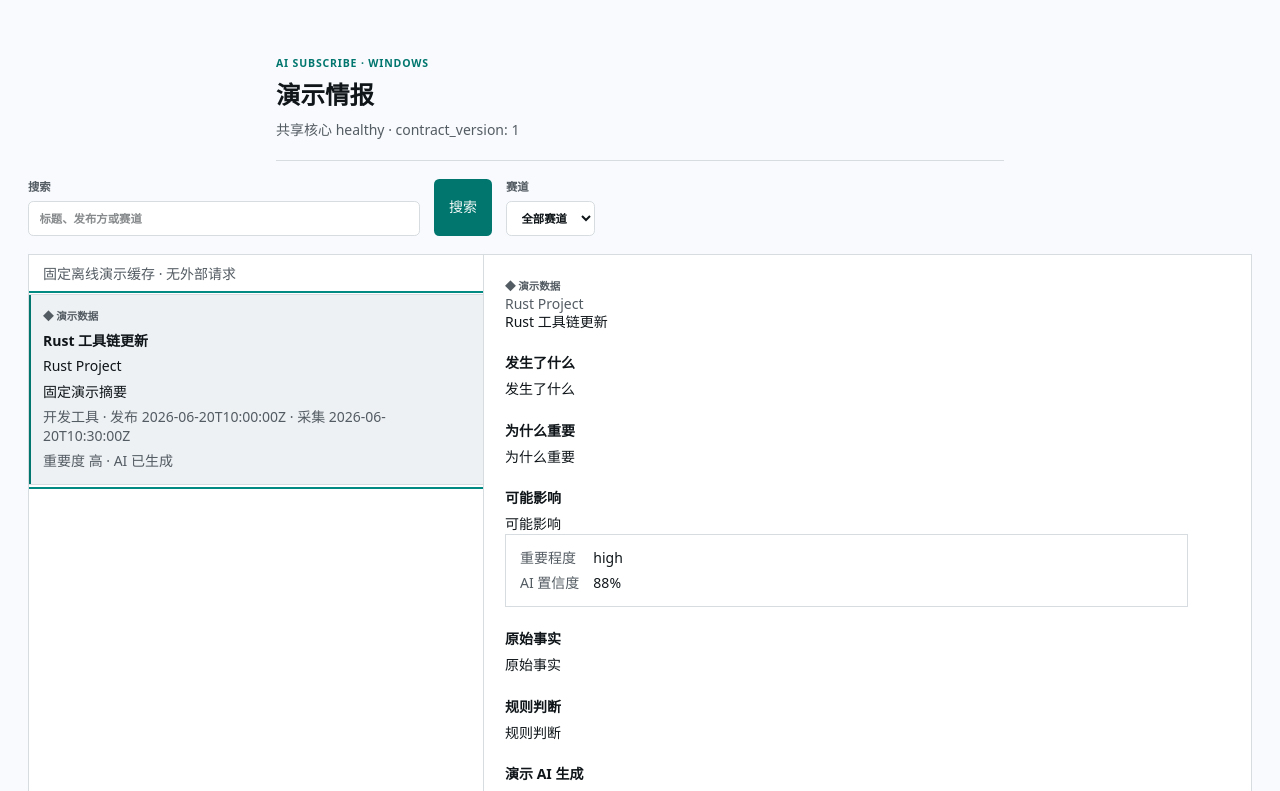
Test: Windows demo intelligence shell › moves selection to a valid item without stealing focus from the active search control
The width and height of the screenshot is (1280, 791).
Type "替换" into the field labelled "搜索" at {"x": 224, "y": 219}, box [28, 201, 420, 236]
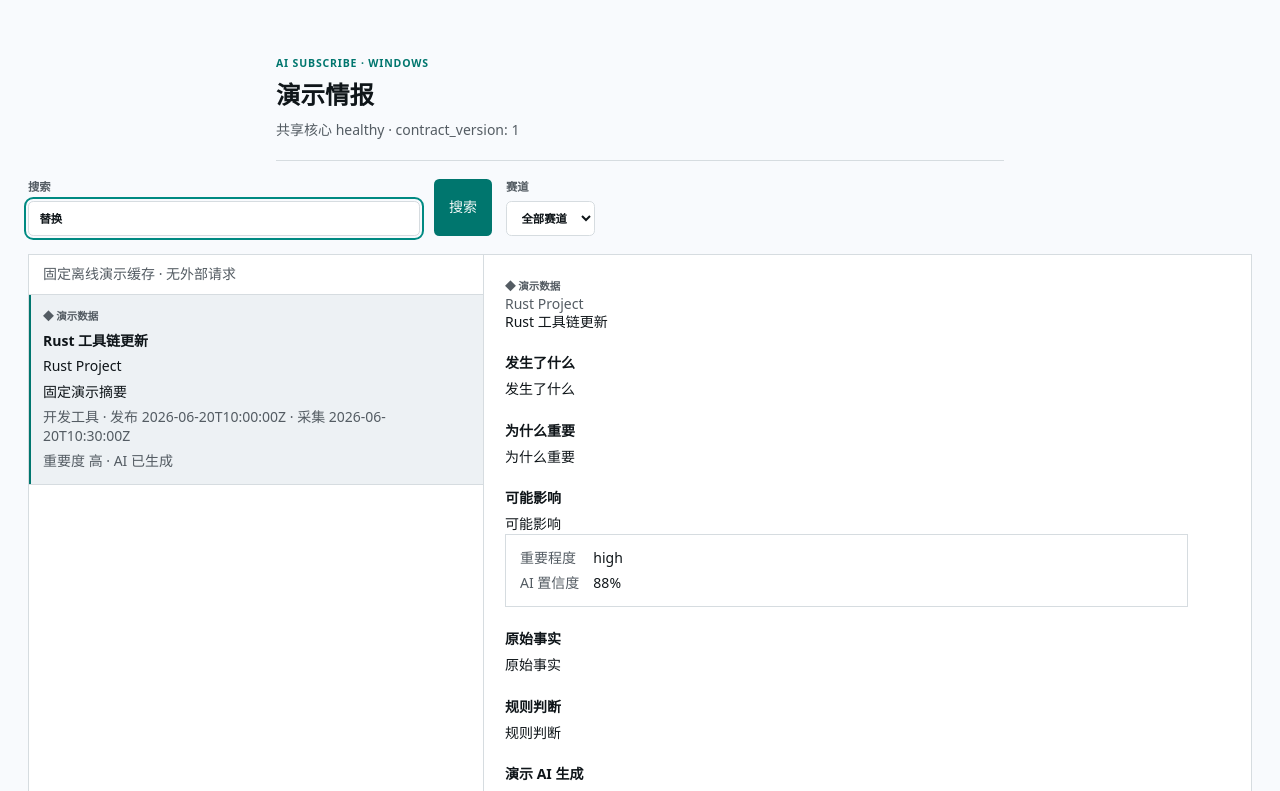
Click the button "搜索" at {"x": 463, "y": 208}, box [434, 179, 492, 236]
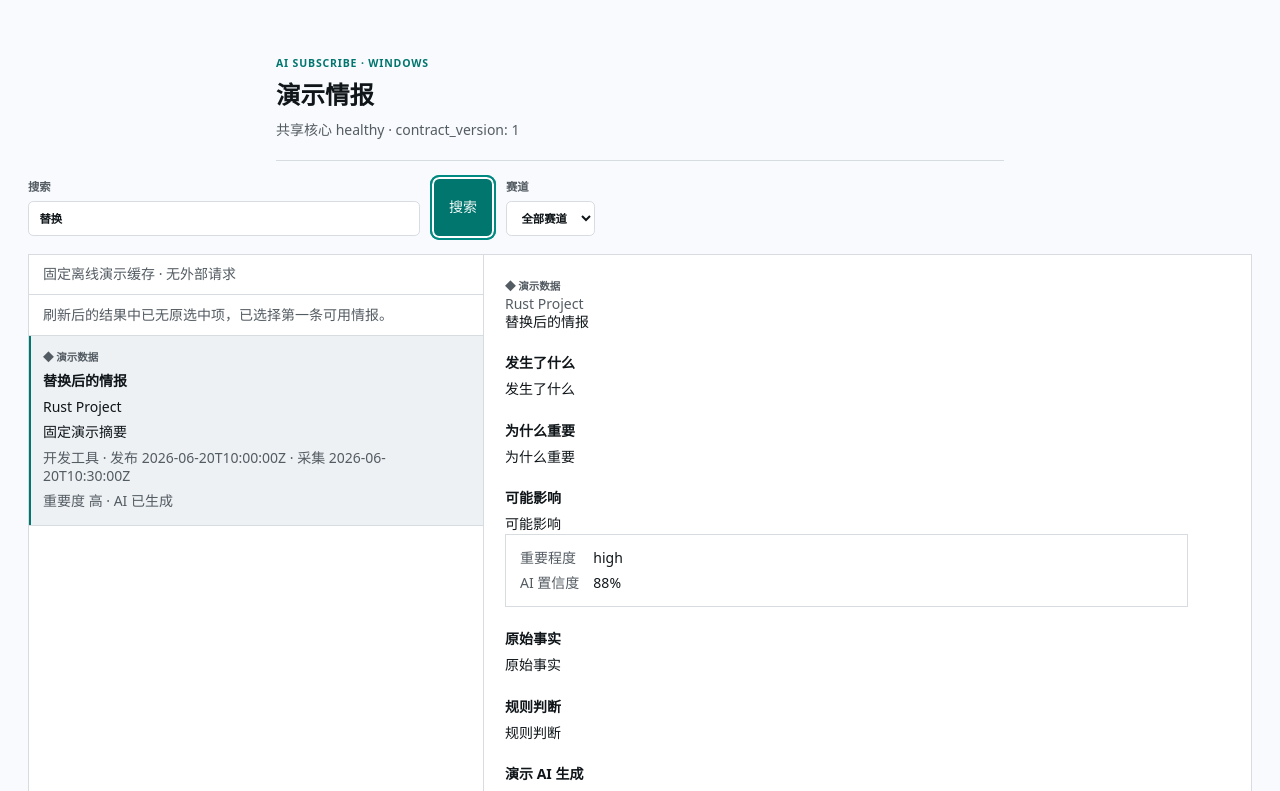
Check: the text "刷新后的结果中已无原选中项，已选择第一条可用情报。" is shown, box [29, 295, 483, 336]
